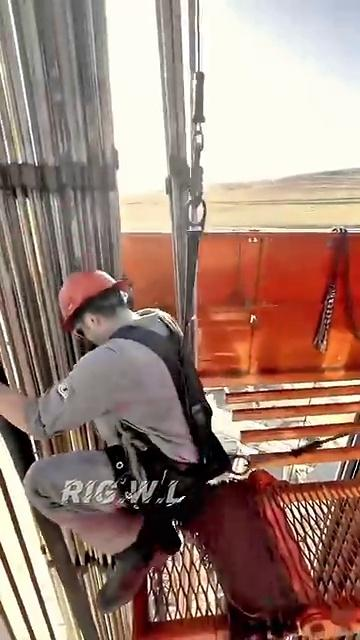helmet: (50, 237, 148, 345)
shoes: (97, 525, 175, 633)
worker: (20, 230, 290, 630)
